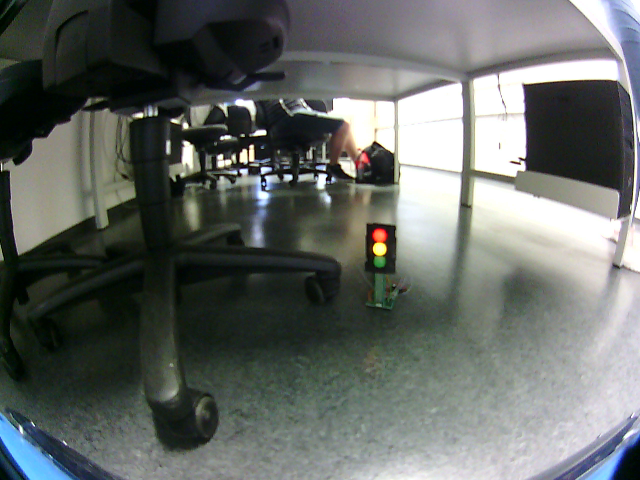red yellow trafficlight: (368, 227, 392, 273)
